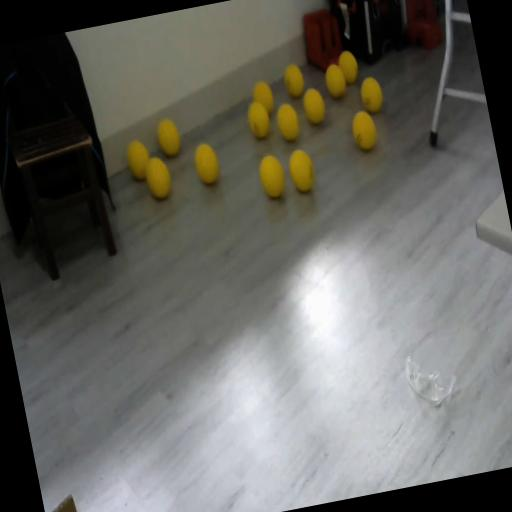FUEL: (255, 151, 289, 201), (190, 140, 223, 188), (285, 146, 318, 194), (142, 154, 174, 202), (123, 136, 154, 182), (273, 100, 303, 144), (349, 109, 379, 153), (155, 116, 183, 158), (250, 77, 278, 118), (358, 75, 386, 115), (301, 86, 328, 126), (322, 62, 348, 100), (336, 48, 361, 85), (281, 62, 306, 98)
